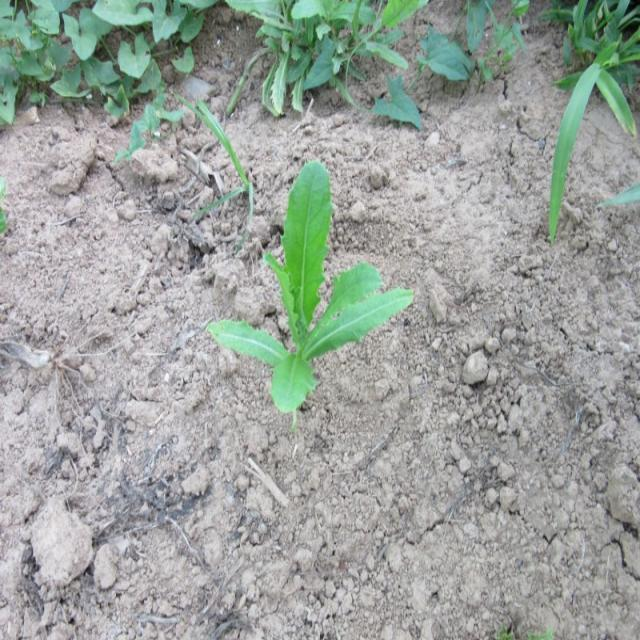cs: (206, 156, 416, 415)
